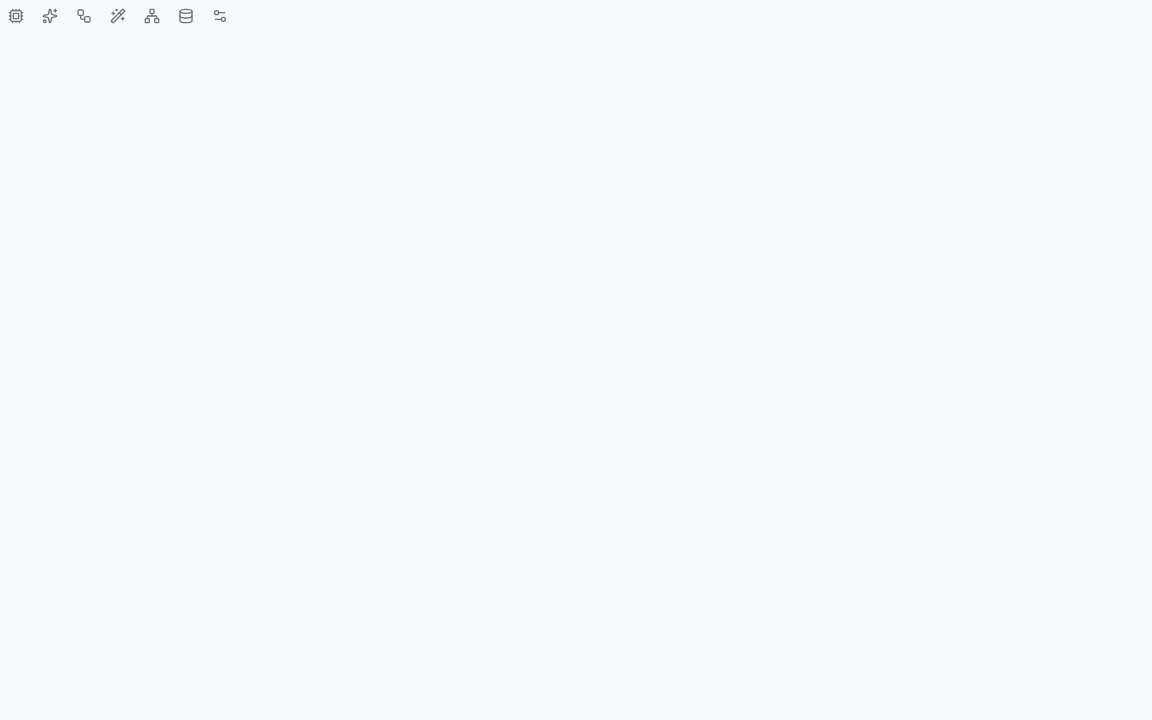
Test: ConfigButtonArea › 无活动会话点击会话依赖项：先自动新建会话，再打开配置弹窗
The image size is (1152, 720).
Click the button named "能力开关" at (16, 16), box [0,0,32,32]
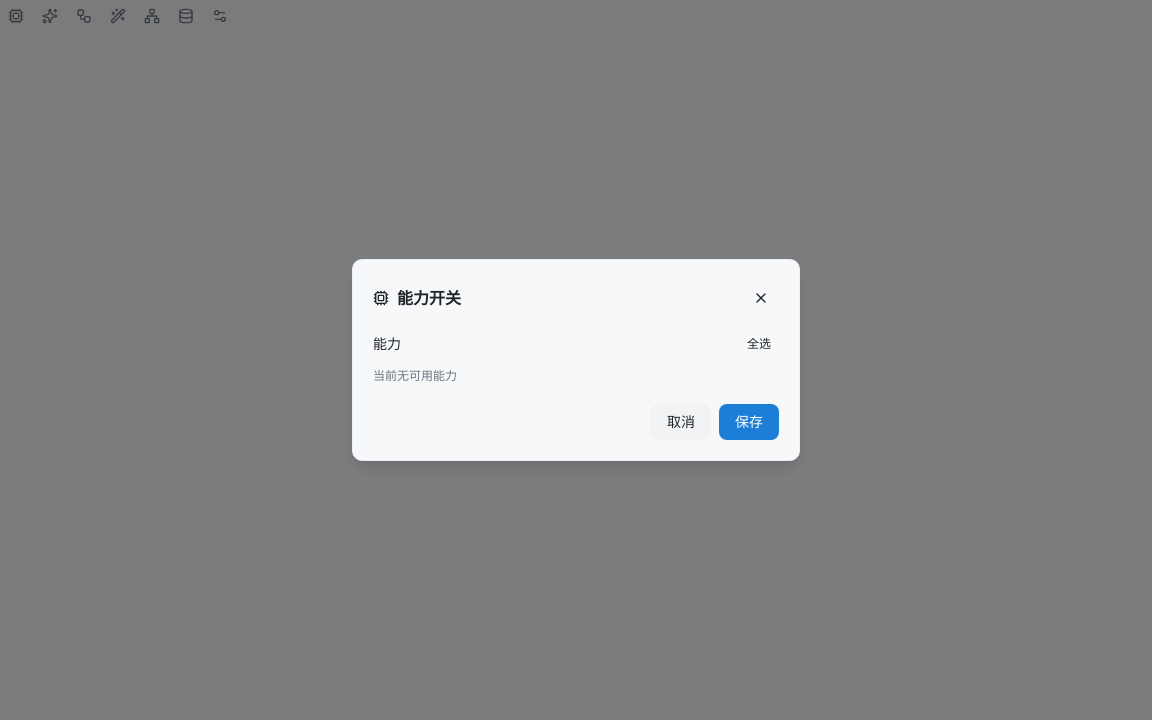
Now the dialog is shown
Now the list item "当前无可用能力" is shown, box [373,367,457,384]
